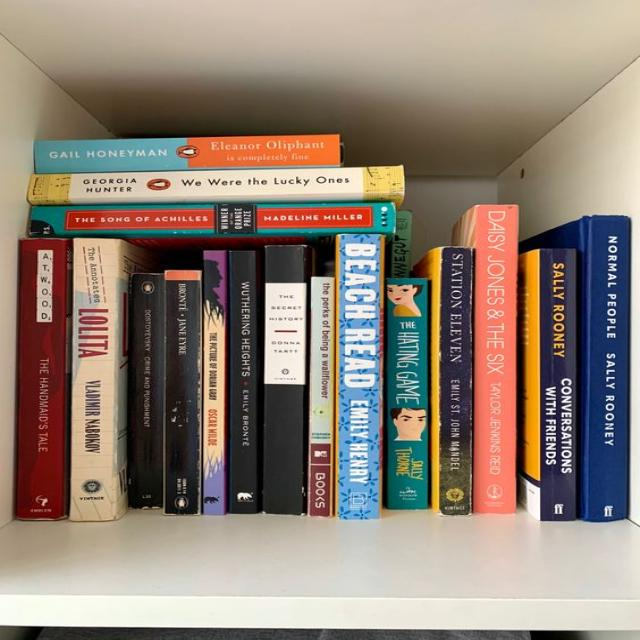book: (68, 238, 146, 521), (458, 204, 517, 514), (520, 249, 578, 520), (582, 216, 632, 520), (15, 238, 69, 519), (419, 246, 473, 515), (28, 166, 403, 204), (335, 234, 384, 519), (262, 246, 312, 515), (30, 202, 398, 238), (35, 134, 342, 173), (384, 278, 429, 510), (165, 270, 202, 514), (128, 273, 165, 509), (227, 249, 260, 513), (306, 277, 334, 516), (202, 250, 227, 515)
